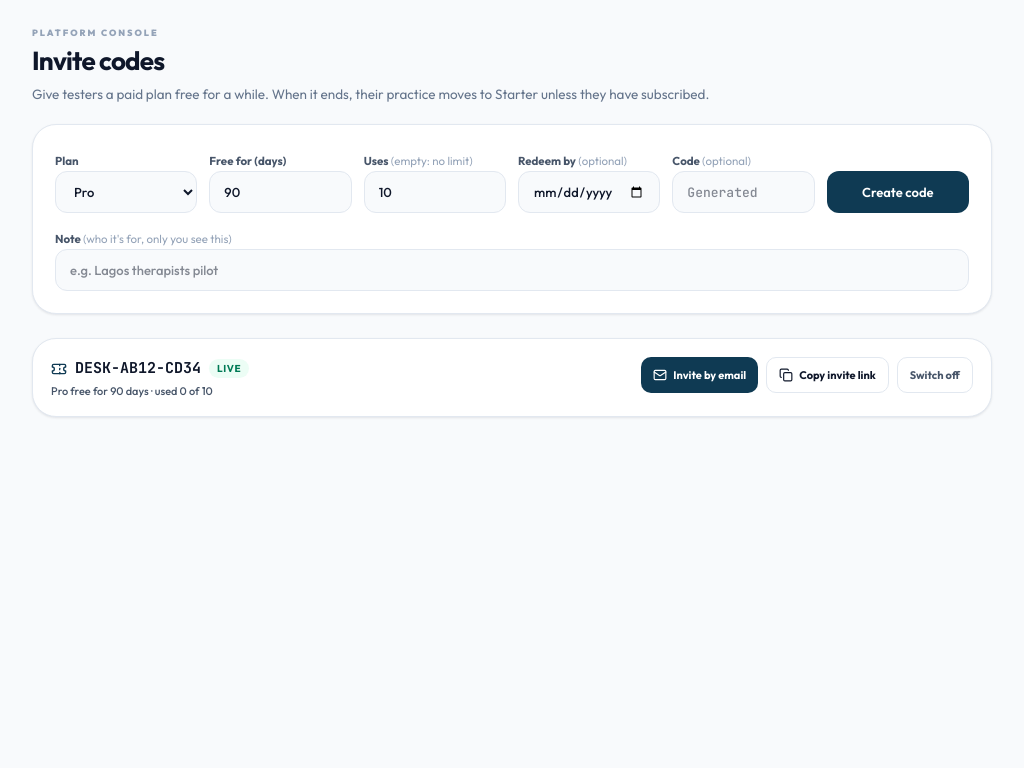
Test: AdminInvitesPage: invite by email › emails the invite with a personal message and shows it in the history
This screenshot has width=1024, height=768.
Click the button "Invite by email": [700, 375] box left=641, top=357, right=758, bottom=393
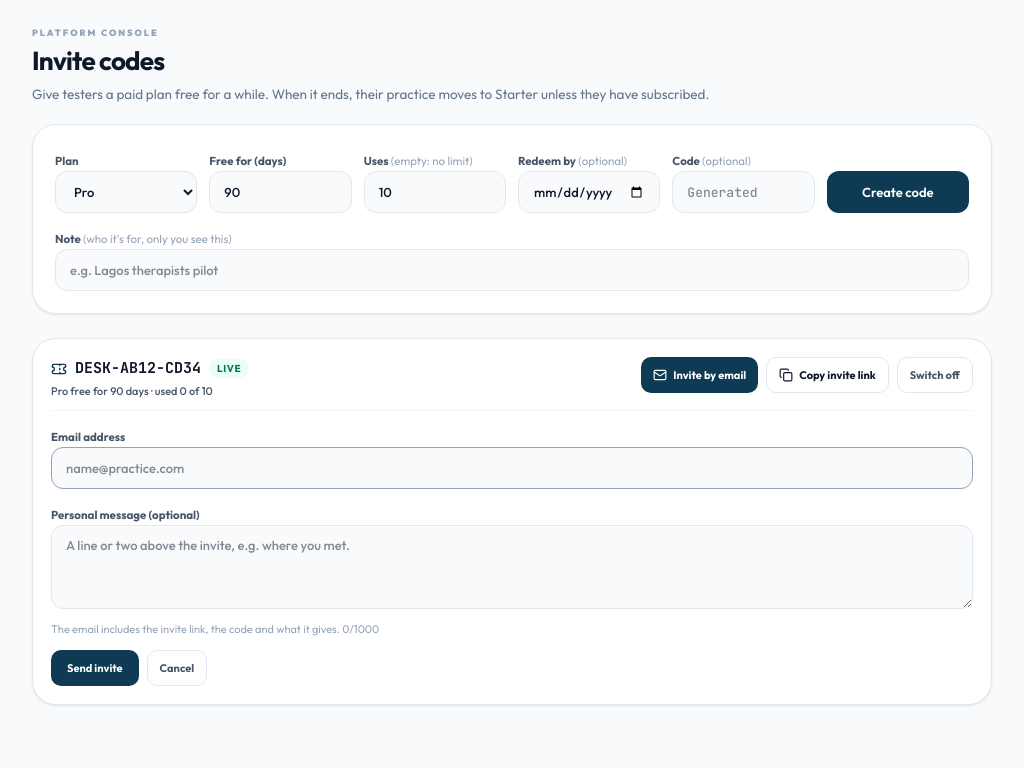
In the field labelled "Email address": [512, 468] box left=51, top=447, right=973, bottom=489, type "ada@calm.ng"
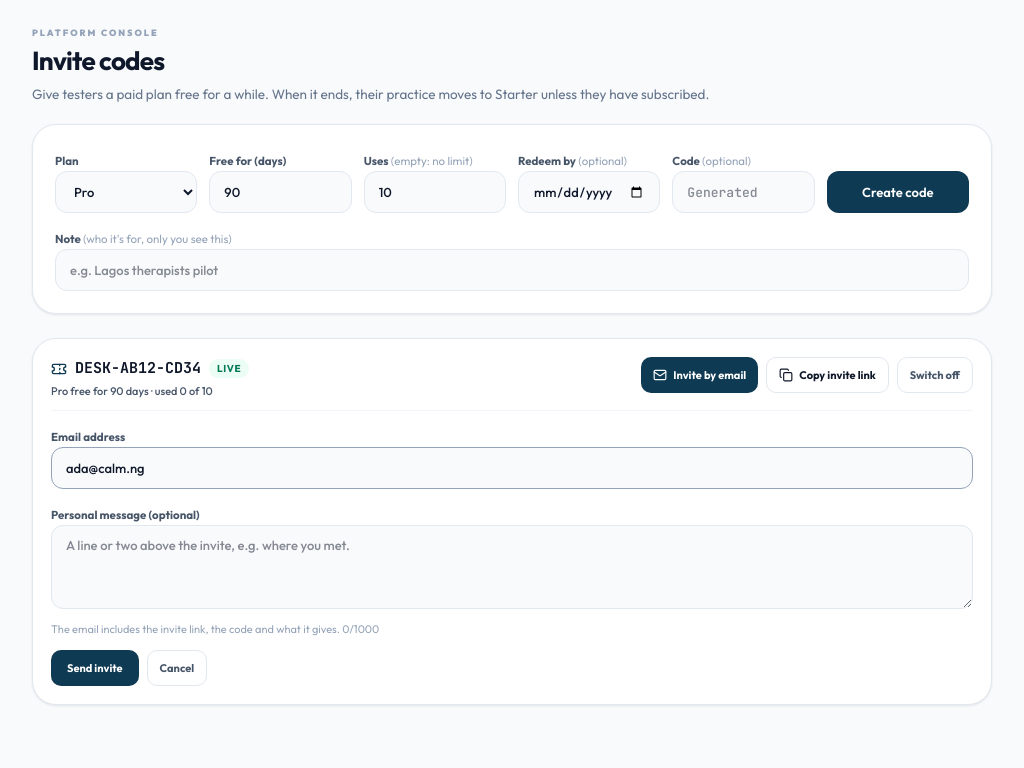
In the text box labelled "Personal message (optional)": [512, 567] box left=51, top=525, right=973, bottom=609, type "See you soon"
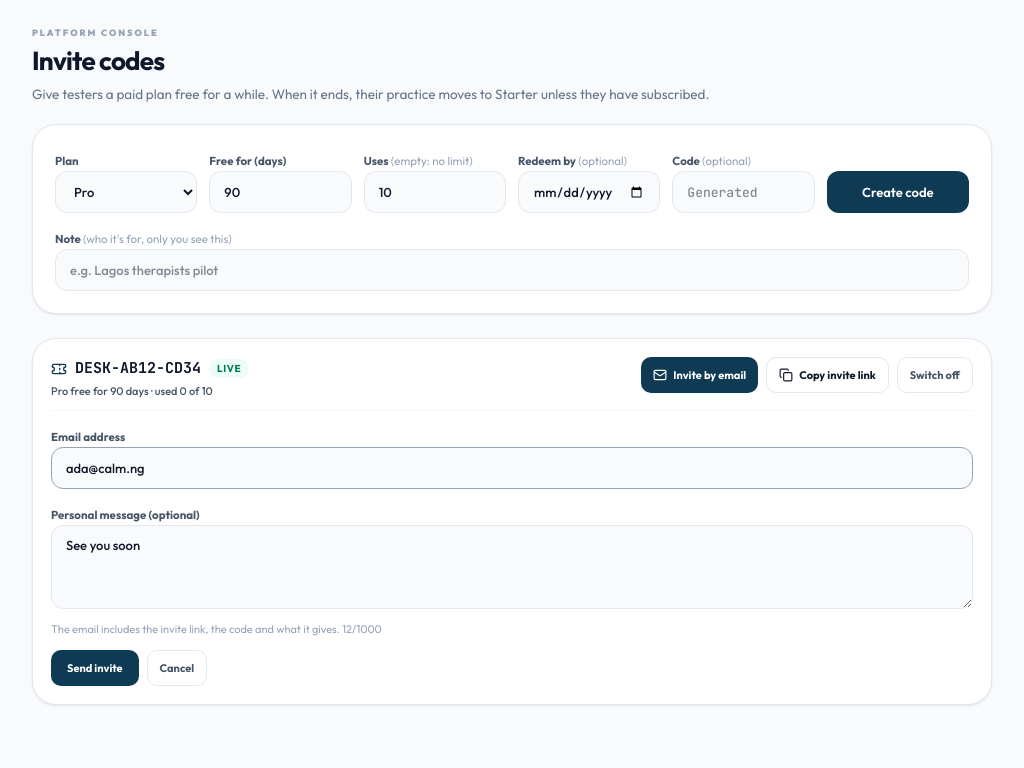
Click the button "Send invite": [95, 668] box left=51, top=650, right=139, bottom=686
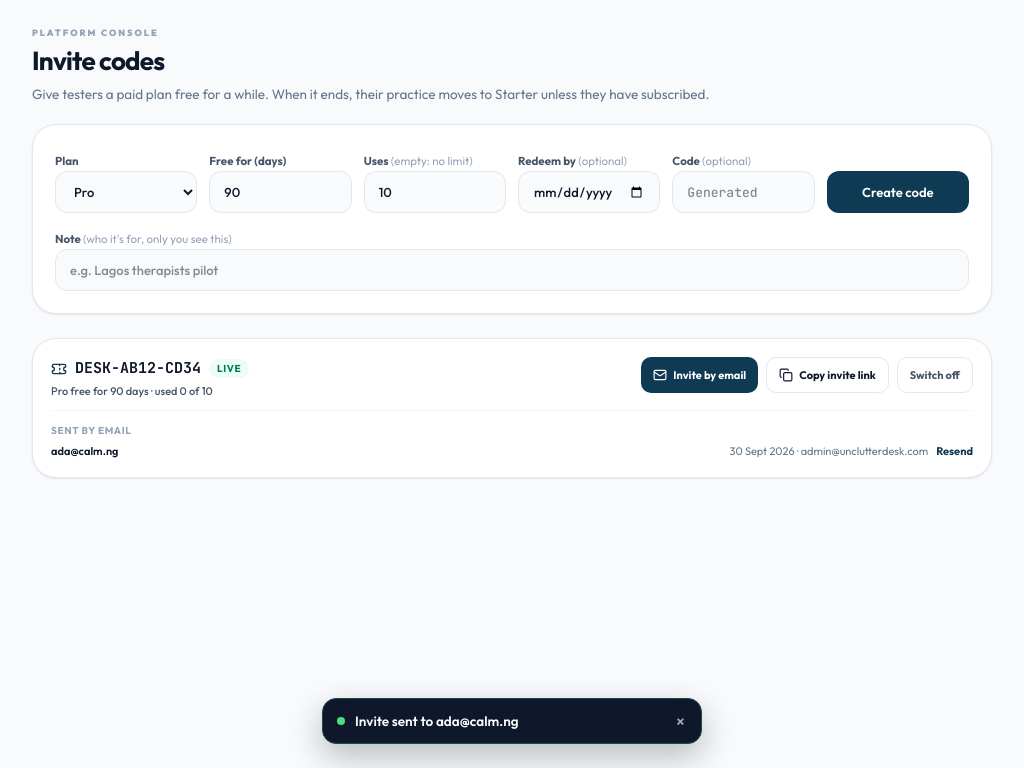
Now the text "ada@calm.ng" is shown, box left=51, top=444, right=118, bottom=459
Now the label labelled "Email address" is gone
